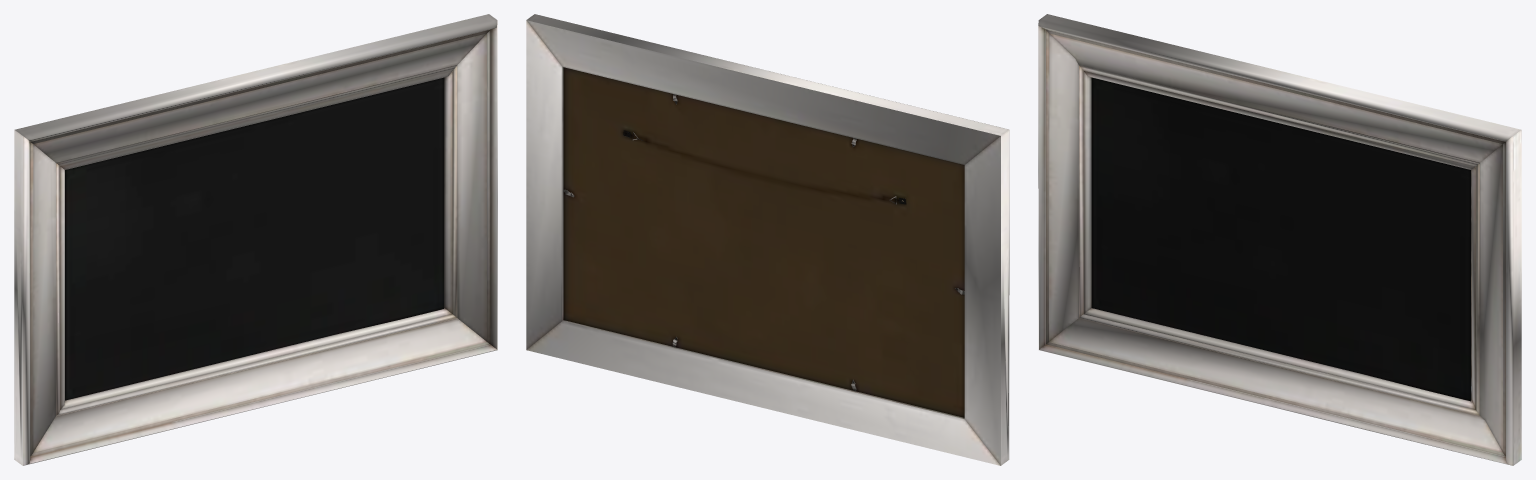
The model's file is frame3.glb.
3 renders of one model, left to right at view 1: azimuth 30°, elevation 25°; view 2: azimuth 150°, elevation 25°; view 3: azimuth 330°, elevation 25°, orthographic.
Visible parts, largest first — view 1: hanging_picture_frame_02; view 2: hanging_picture_frame_02; view 3: hanging_picture_frame_02.
Part boxes in pixels (x1=…): hanging_picture_frame_02: x1=14, y1=14, x2=497, y2=465; hanging_picture_frame_02: x1=526, y1=14, x2=1009, y2=465; hanging_picture_frame_02: x1=1038, y1=14, x2=1521, y2=465.
Bounding box in the file's own units: 0.7512 × 0.4988 × 0.0322.
3 materials, 3 textured.
